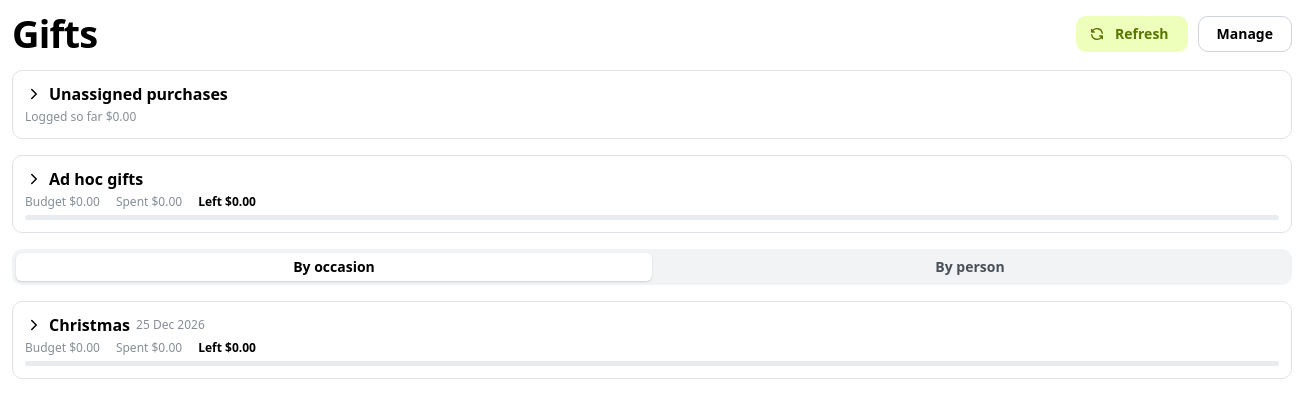
Test: GiftsScreen empty prompts › prompts to add a recipient when grouping by person with none
Click the radio button labelled "By person" at (970, 267), box x1=935 y1=257 x2=1005 y2=276
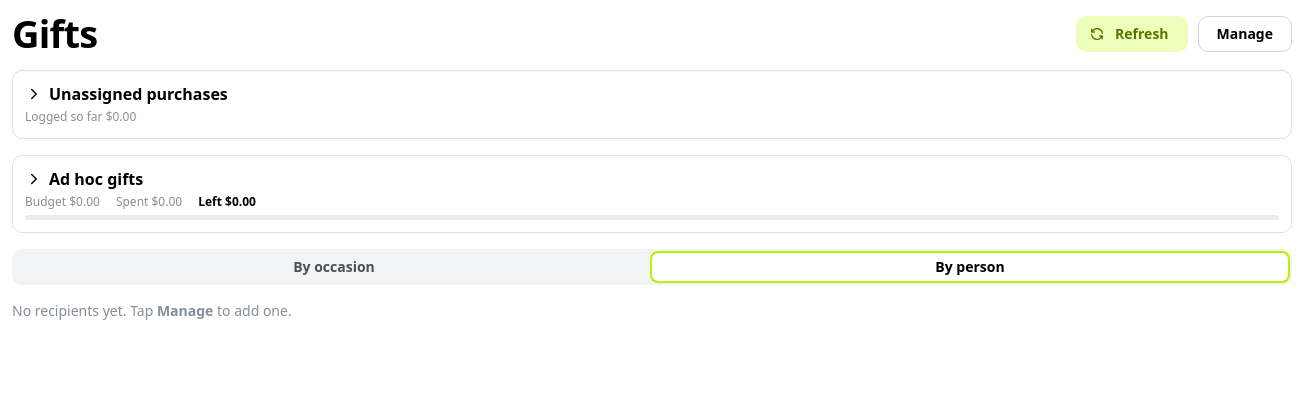
Now the text "No recipients yet. Tap Manage to add one." is shown, box x1=12 y1=301 x2=292 y2=320
